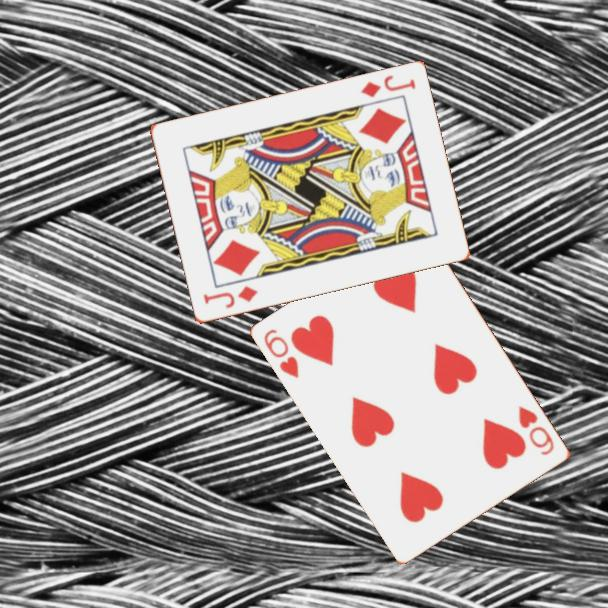d11: (199, 283, 260, 312), (357, 72, 418, 101)
h06: (515, 402, 558, 459), (261, 325, 302, 382)
